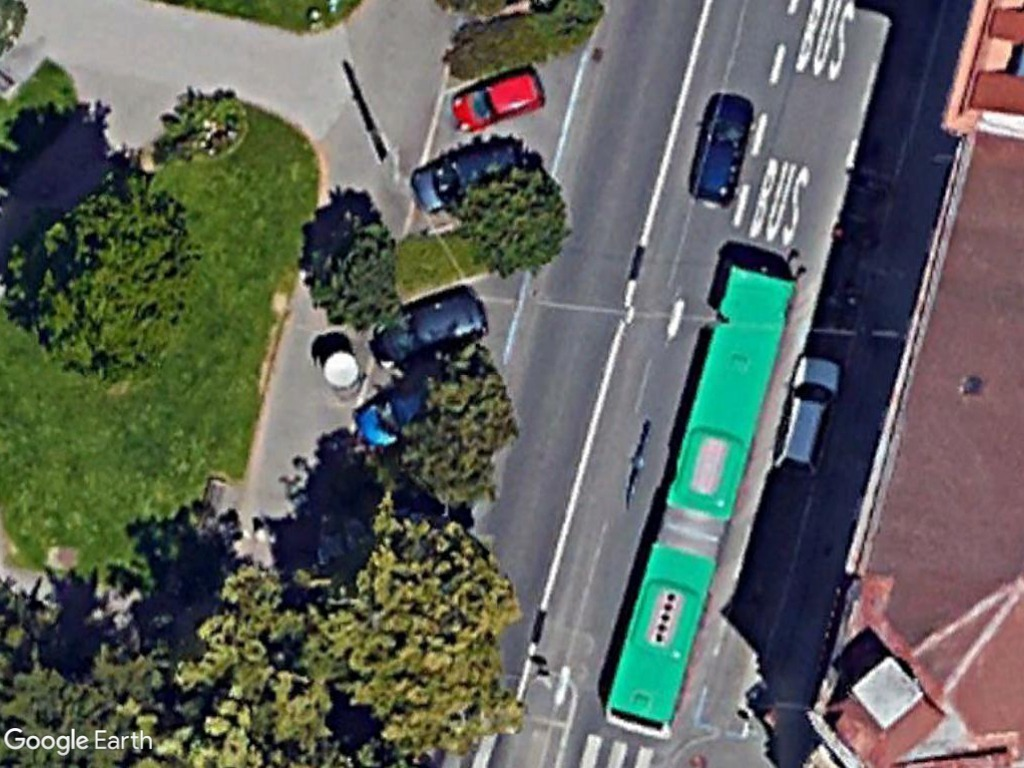bus: (655, 265, 801, 531), (597, 531, 721, 738)
car: (769, 350, 847, 480), (685, 90, 758, 211), (443, 64, 549, 138)
